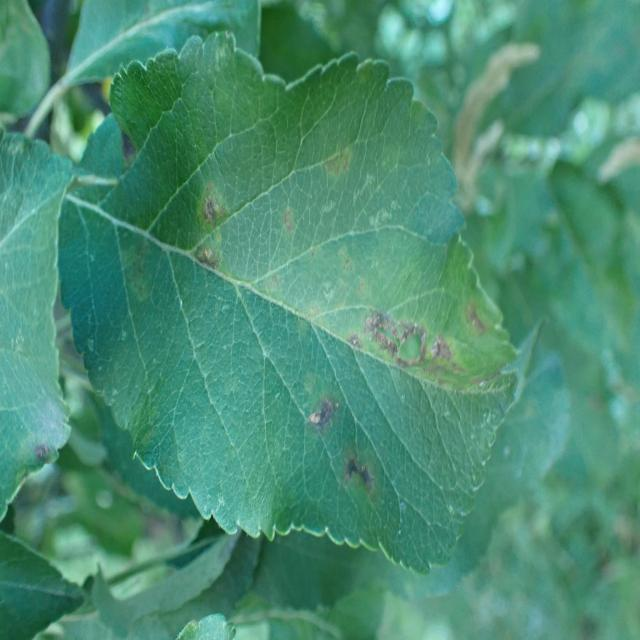scab: (102, 104, 506, 524)
